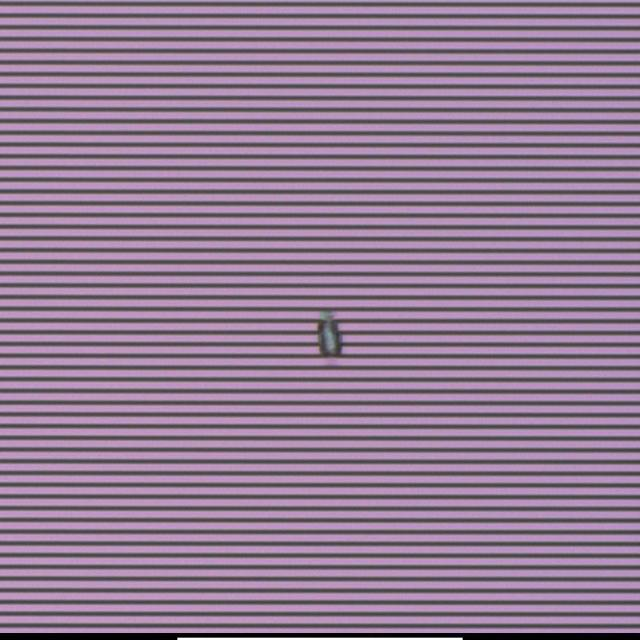03_intrusion: (310, 300, 358, 365)
